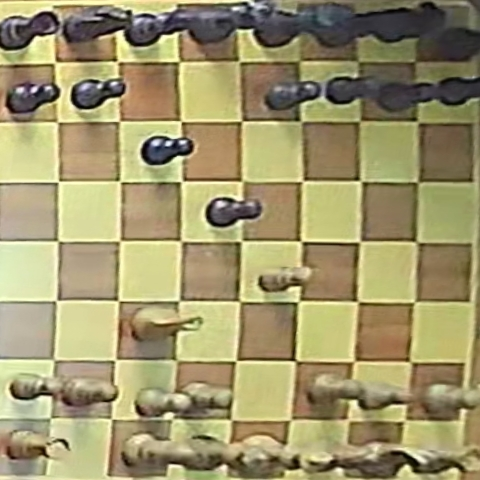black-bishop: (127, 0, 211, 46), (318, 8, 390, 49)
black-king: (253, 1, 354, 48)
black-knight: (373, 2, 448, 48), (64, 5, 131, 45)
black-pawn: (374, 80, 436, 112), (326, 76, 386, 107), (7, 81, 60, 115), (73, 78, 126, 110), (206, 197, 262, 227), (141, 136, 194, 166), (265, 81, 318, 111), (430, 74, 478, 107)
black-queen: (184, 0, 281, 44)
black-rook: (1, 10, 60, 50), (419, 26, 480, 62)
white-bishop: (122, 432, 199, 473), (298, 439, 384, 474)
white-king: (239, 434, 337, 477)
white-knight: (353, 442, 439, 477), (130, 306, 204, 342)
white-pawn: (418, 382, 478, 419), (353, 379, 414, 410), (60, 376, 119, 407), (135, 387, 194, 417), (308, 373, 358, 407), (182, 382, 234, 411), (11, 373, 63, 401), (259, 267, 313, 292)
white-queen: (182, 434, 269, 475)
white-rook: (410, 444, 479, 475), (2, 430, 69, 461)
